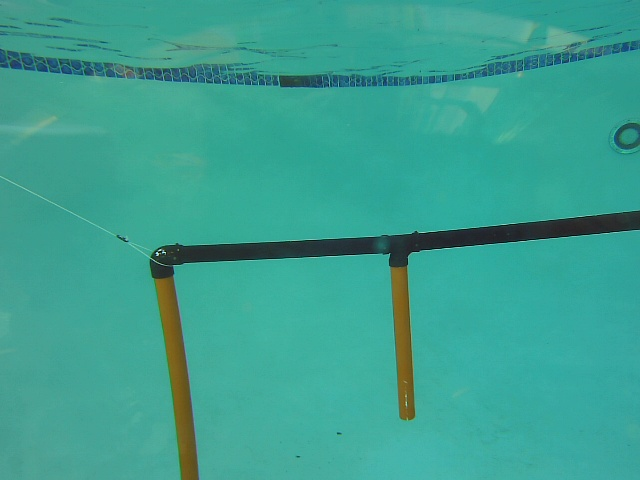Gate: (150, 268, 201, 480), (385, 258, 419, 425)
